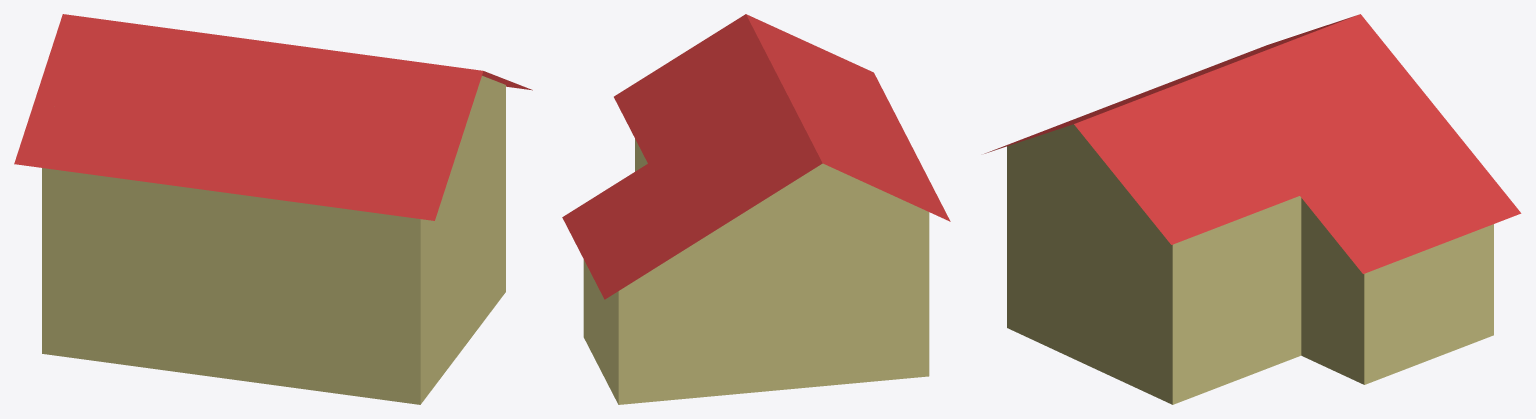
The picture shows the model from 3 angles, left to right: view 1: azimuth 30°, elevation 25°; view 2: azimuth 150°, elevation 25°; view 3: azimuth 270°, elevation 25°; orthographic projection. The views are drawn at different scales.
Size of the model in its own units: 18.22 by 20.92 by 10.52.
